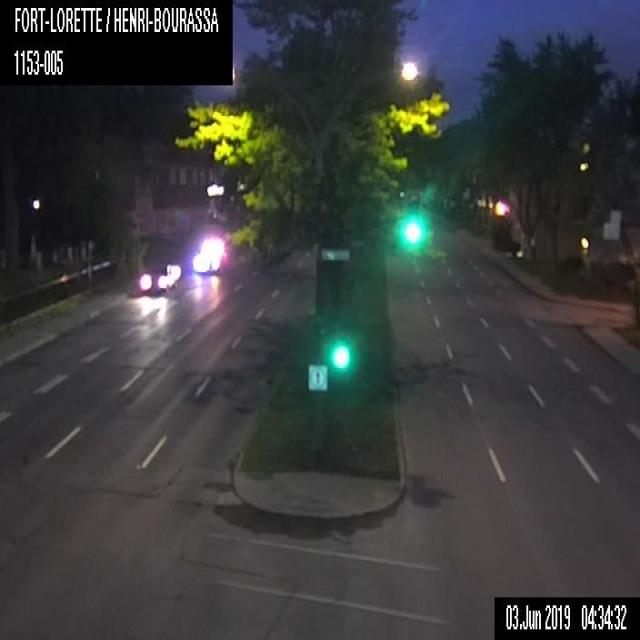vehicle: (137, 259, 173, 296)
